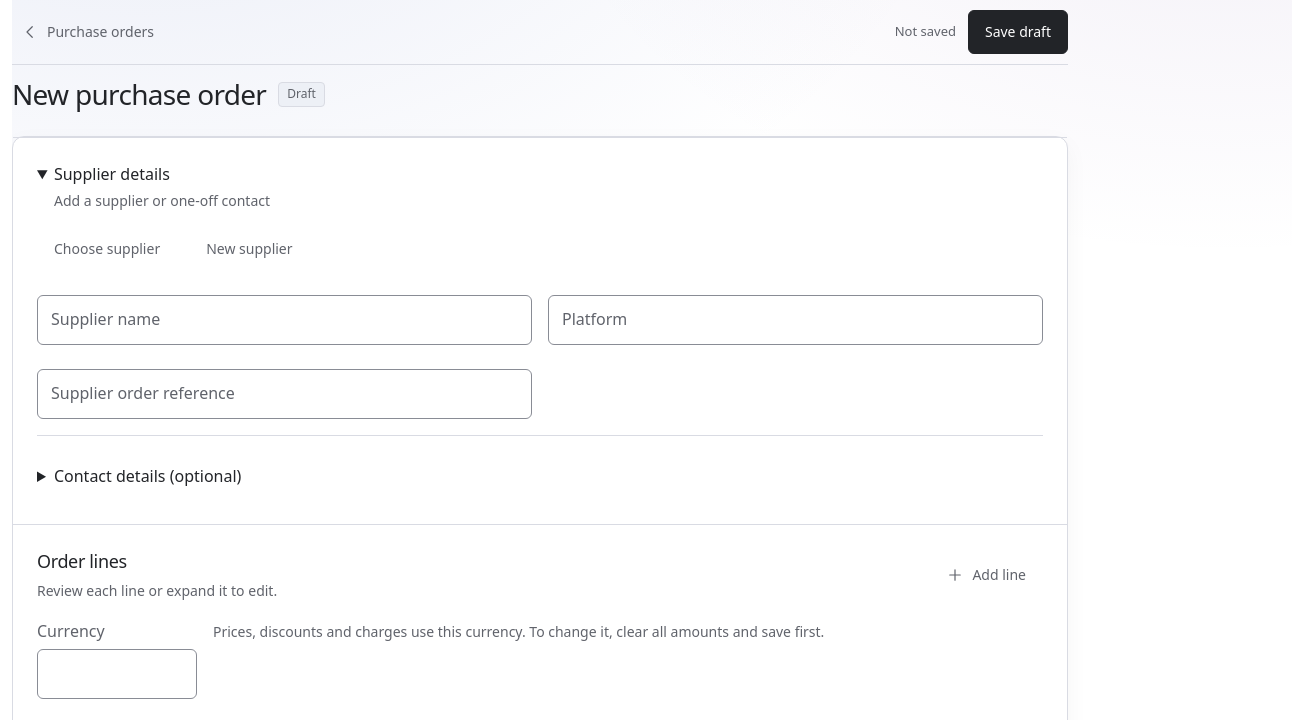
Test case: keeps the lower Add line action before the merchandise estimate
// WHEN adding a line THEN the next-line action precedes the estimate in reading and tab order.
Click the button "Add line".
click(986, 575)  # box [929,553,1043,597]
(page scrolled)
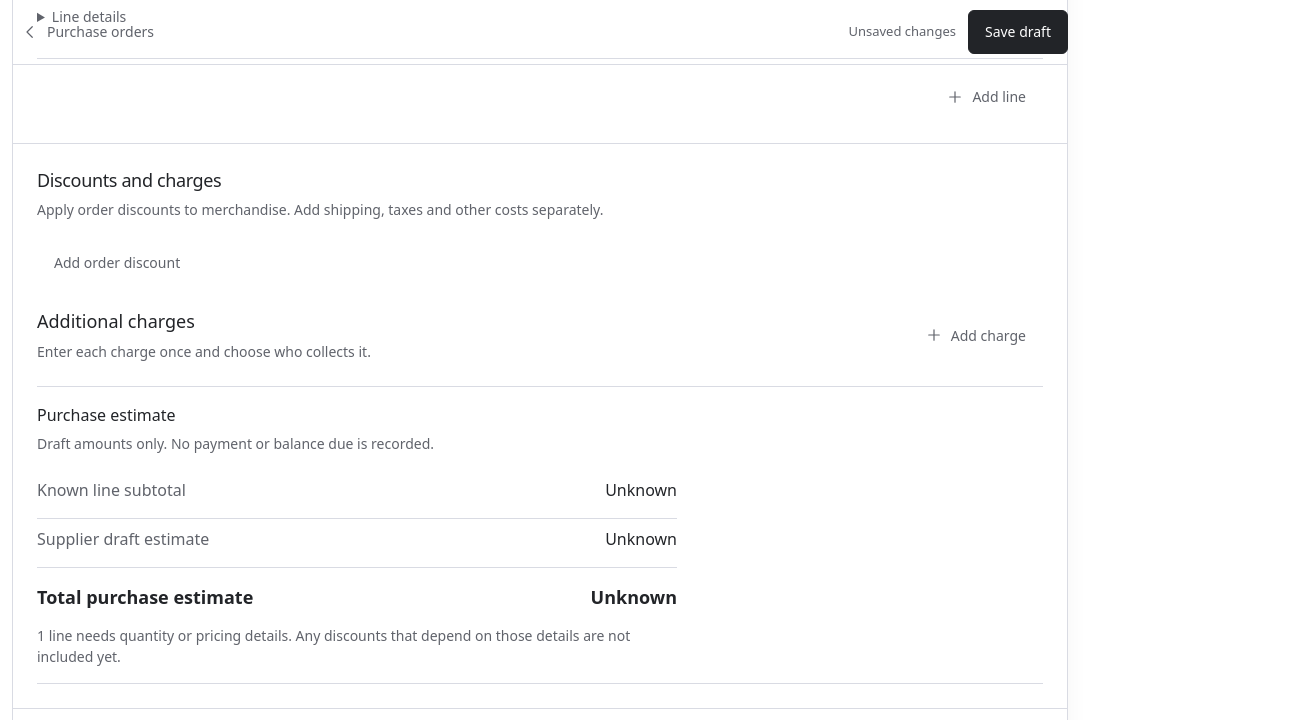
expect the element that starts with "Purchase estimate" is shown: met, box [37,386,1043,684]
